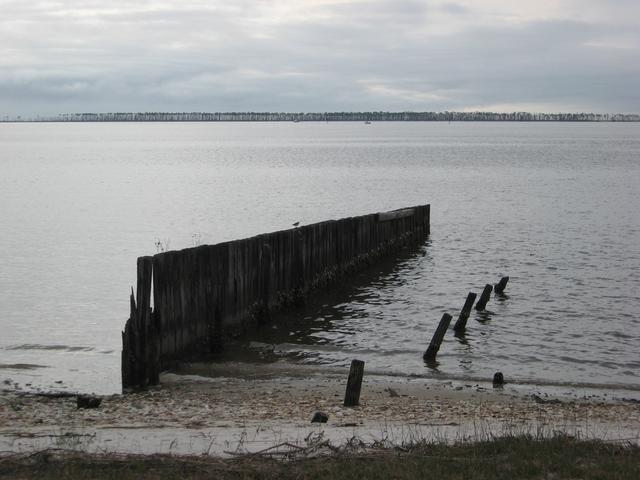bird: (291, 221, 300, 226)
